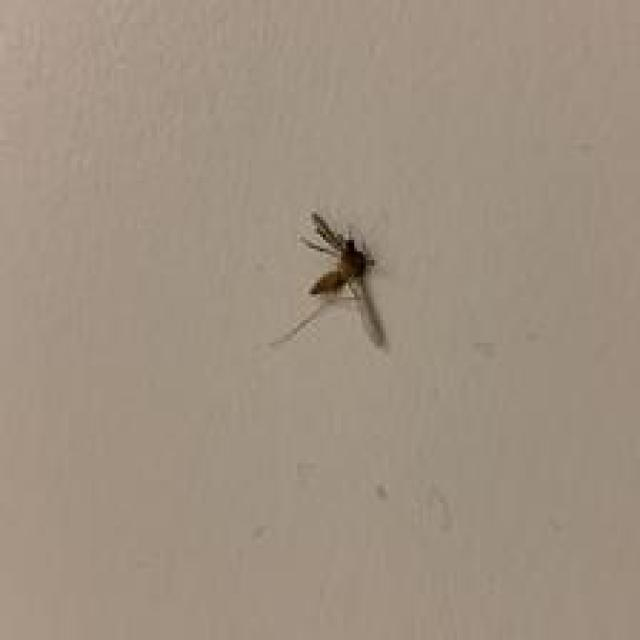Culex: (267, 208, 390, 352)
